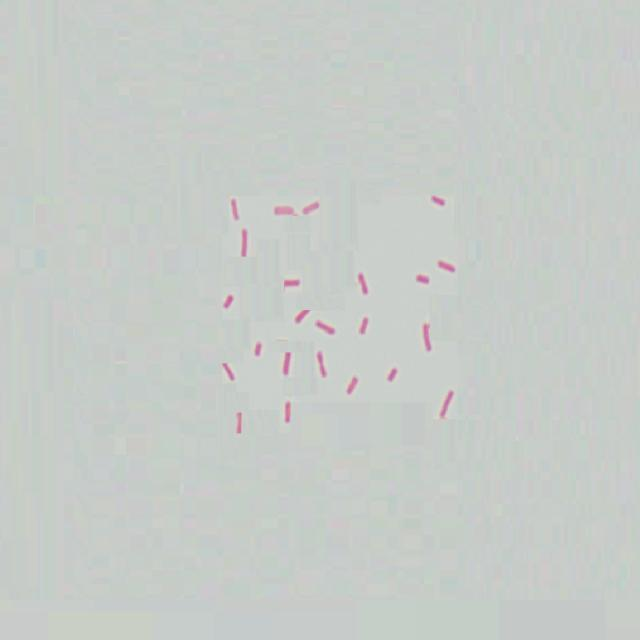E-coli: (418, 320, 438, 355), (301, 196, 328, 221), (219, 355, 239, 385), (437, 389, 453, 422), (237, 227, 254, 258), (313, 347, 329, 378), (268, 202, 294, 221), (354, 271, 372, 298), (225, 195, 243, 221), (232, 408, 248, 436), (278, 348, 292, 378), (316, 318, 339, 336), (247, 337, 265, 359), (413, 270, 431, 292), (438, 257, 459, 275), (220, 290, 236, 313), (345, 373, 361, 394), (385, 366, 403, 384), (292, 306, 309, 325), (359, 315, 373, 338), (280, 275, 303, 289), (283, 395, 293, 425), (431, 194, 449, 209)
